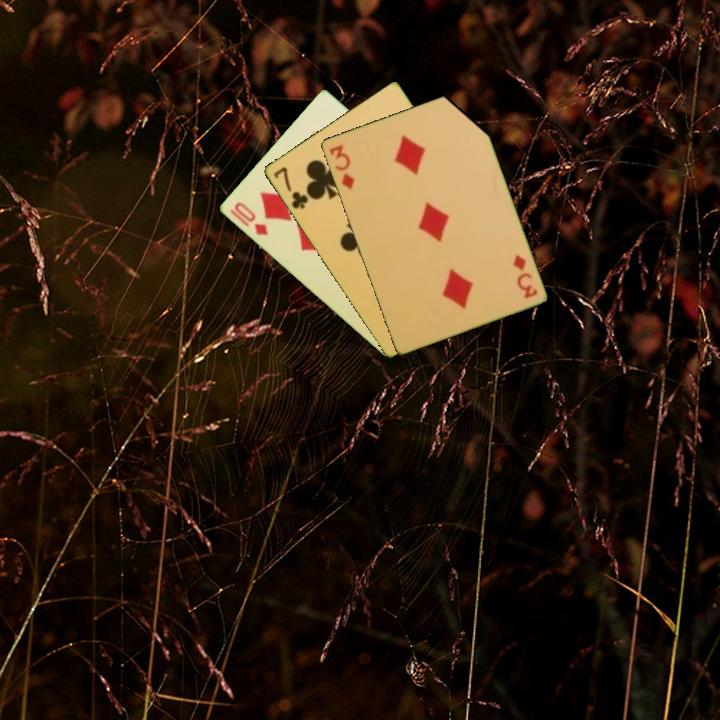10d: (226, 198, 270, 239)
3d: (325, 141, 357, 192), (509, 251, 540, 301)
7c: (270, 163, 311, 212)
